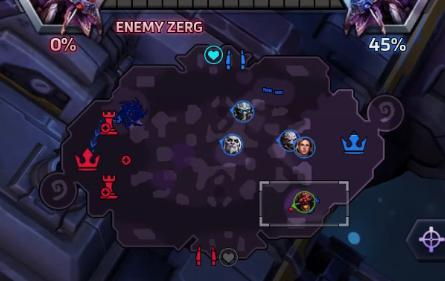blue nexus: (339, 129, 367, 154)
blue player: (231, 99, 254, 122), (220, 133, 242, 156), (292, 136, 315, 158), (277, 129, 299, 151)
red nexus: (73, 147, 101, 171)
red tower: (99, 174, 118, 199)
